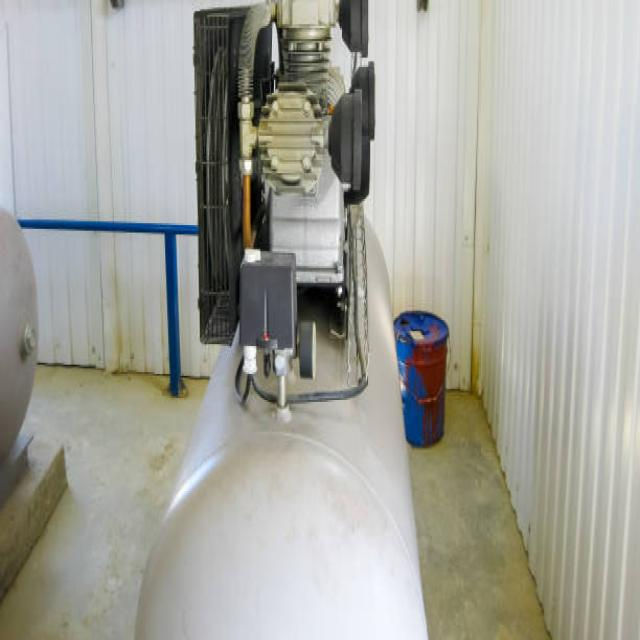compressor: (132, 0, 393, 636)
